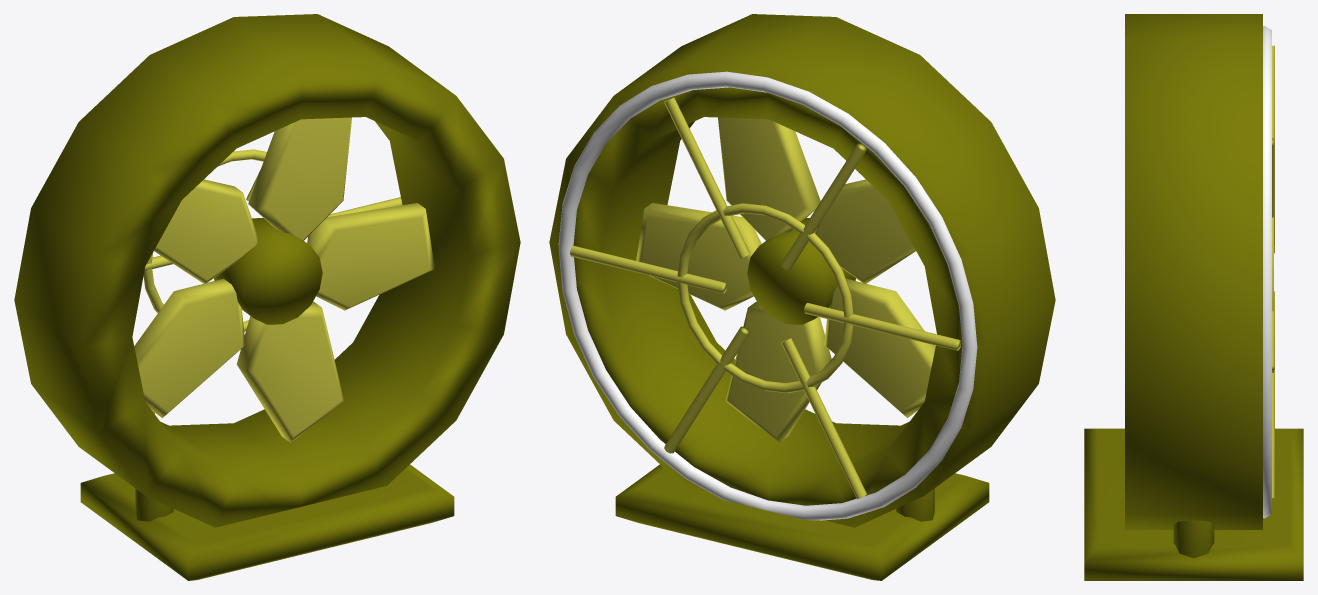
Rendered from Fan.glb.
3 views of the same model, side by side, from view 1: azimuth 30°, elevation 25°; view 2: azimuth 150°, elevation 25°; view 3: azimuth 270°, elevation 25° (orthographic). The views are drawn at different scales.
Visible parts, largest first — view 1: Body, Rotor, Bracket, Grille; view 2: Body, Rotor, Grille, Bracket; view 3: Body, Bracket, Grille.
Boxes of the visible parts, x1,y1,x2,y2 form: Body: (14,14,520,527); Rotor: (134,117,434,442); Bracket: (80,464,454,580); Grille: (143,149,402,413); Body: (549,14,1055,527); Rotor: (636,117,935,442); Grille: (558,71,977,520); Bracket: (615,464,989,580); Body: (1125,14,1262,529); Bracket: (1084,428,1303,580); Grille: (1263,26,1274,518).
Bounding box in the file's own units: 0.924 × 0.9562 × 0.392.
Materials: 1 (1 with a texture image).
